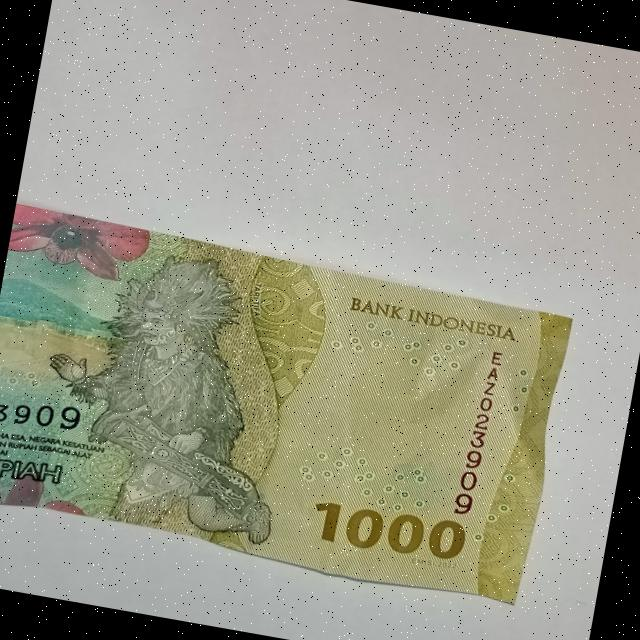1K: (0, 183, 589, 620)
